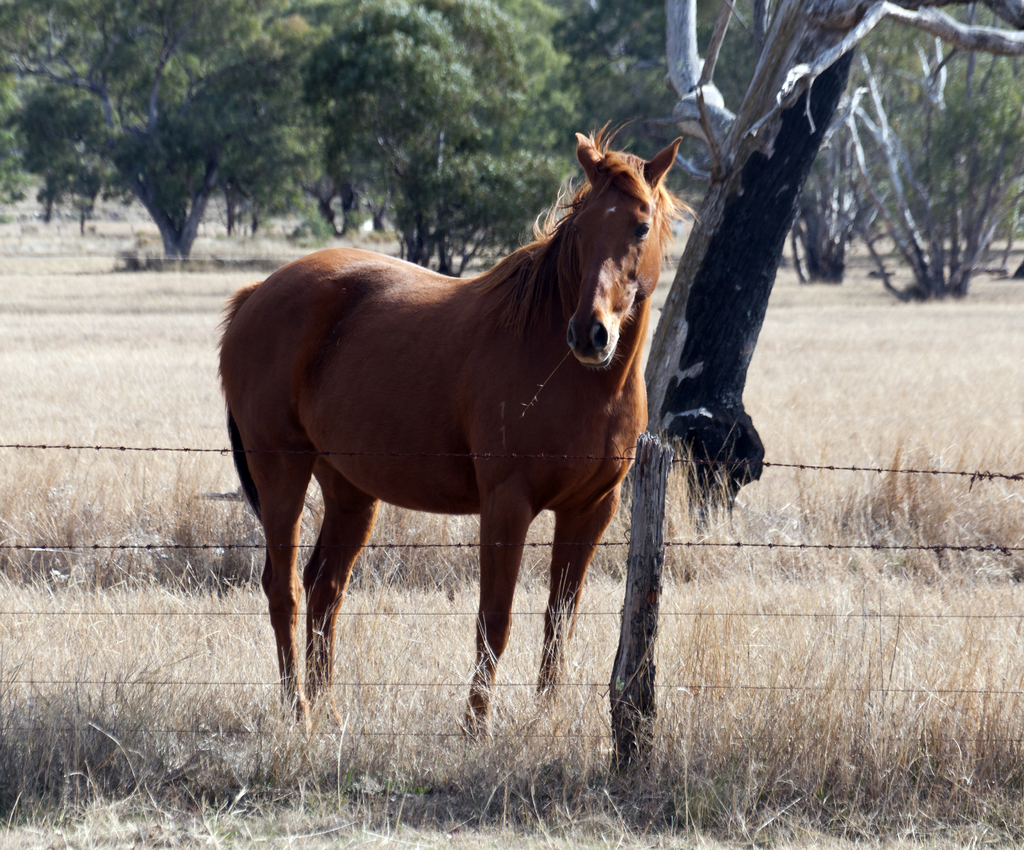horse: (216, 118, 683, 747)
